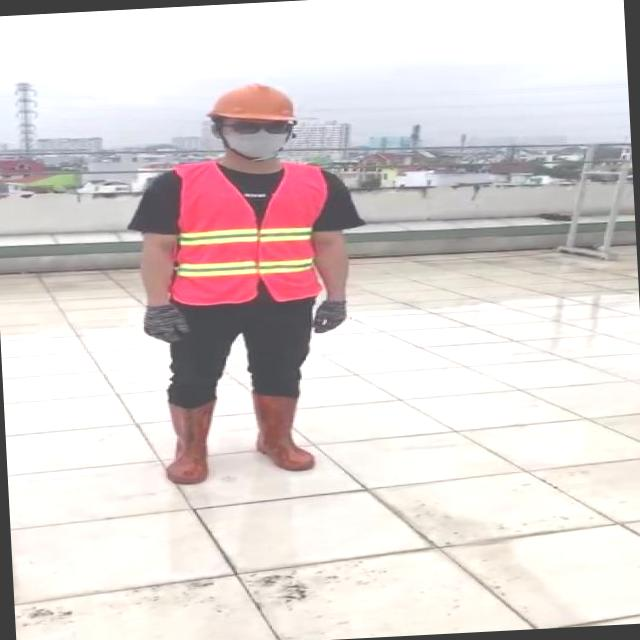boots: (250, 394, 318, 474), (161, 400, 218, 489)
gloves: (120, 289, 196, 366), (296, 279, 356, 342)
helmet: (202, 80, 304, 128)
vest: (166, 154, 337, 308)
